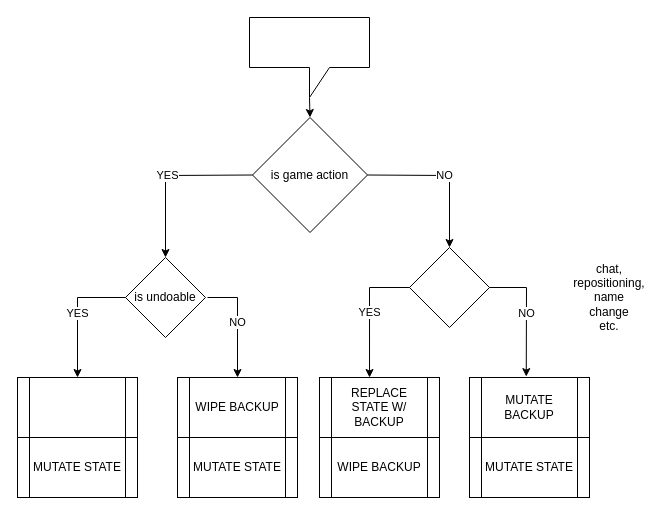
This 662x515 diagram has some shape labels left out. Here are the shapes that lost their labels. From the top down, the box of each, then its label:
(248, 16, 370, 98): CLIENT REQUEST
(408, 246, 490, 328): is undo
(16, 376, 138, 438): COPY STATE TO BACKUP
